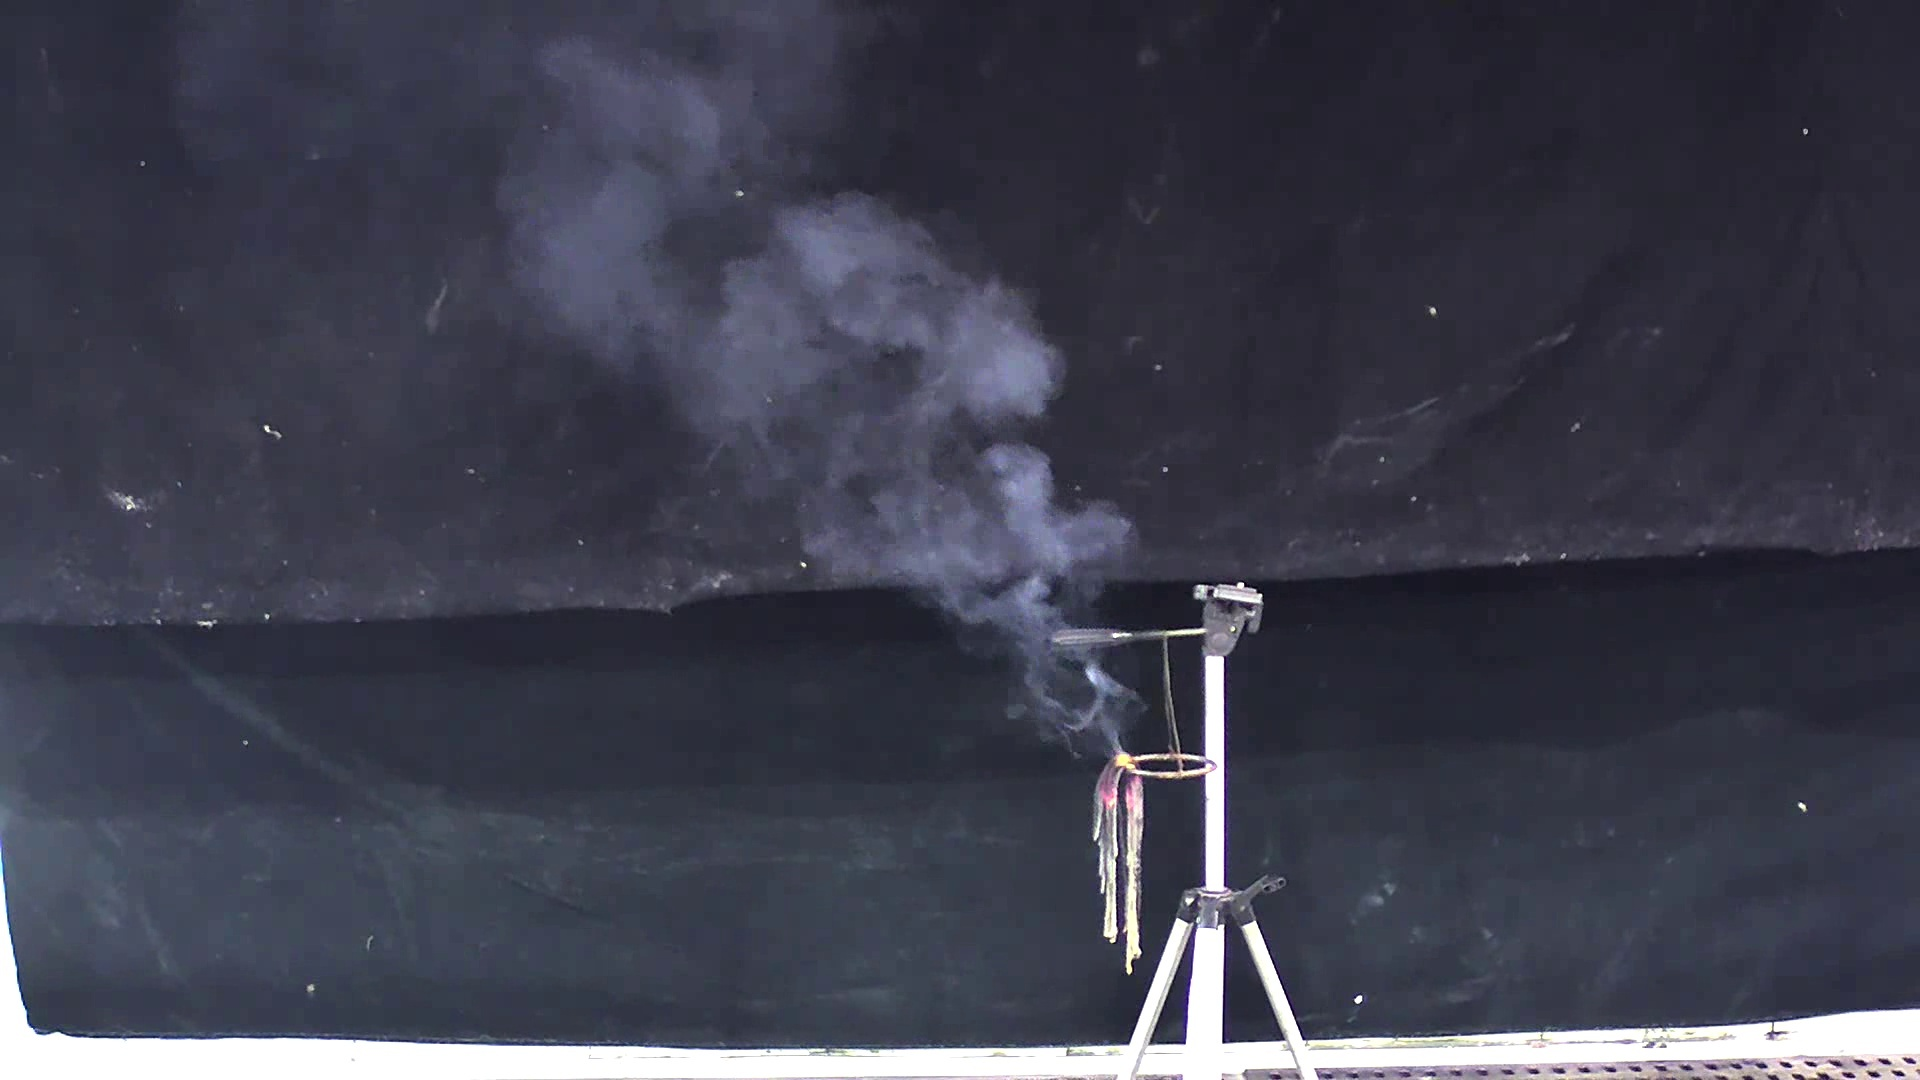smoke: (475, 30, 1171, 749)
